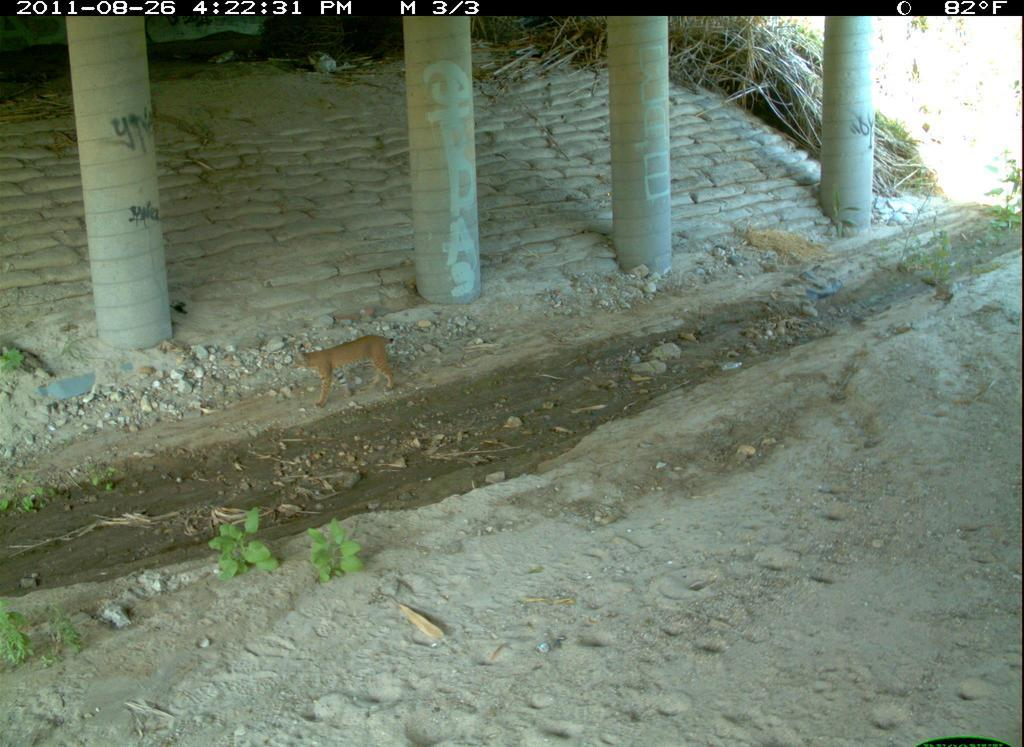bobcat: (576, 658, 802, 747)
